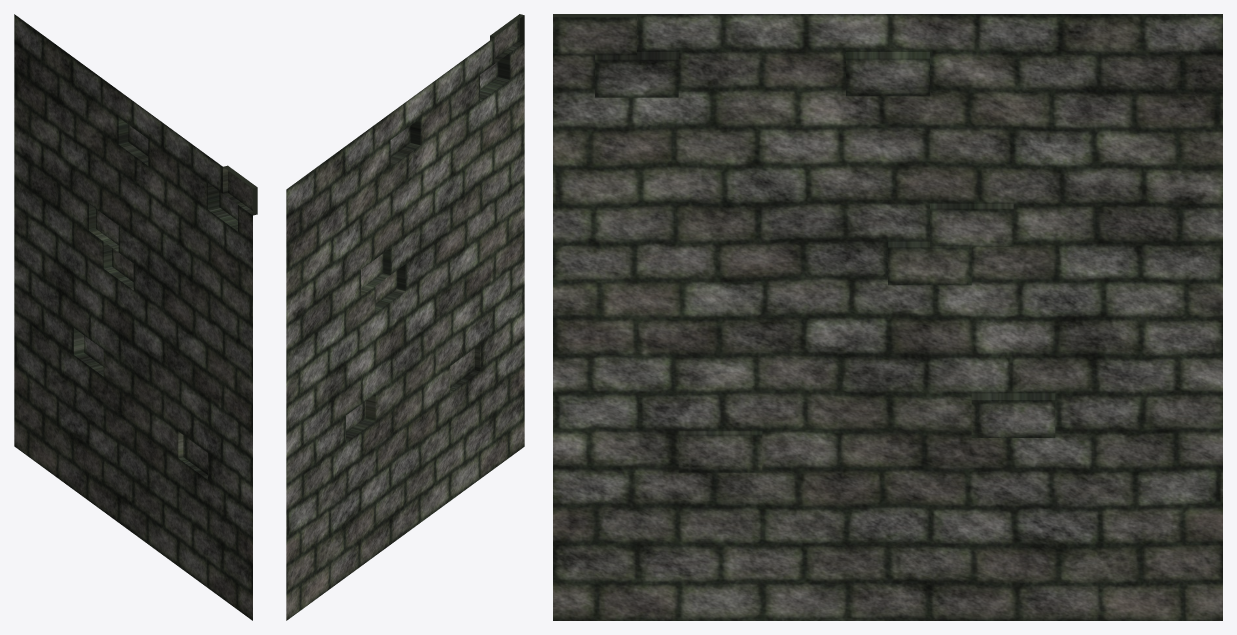
File: DungeonTiles_embedded_png.fbx
The picture shows the model from 3 angles, left to right: view 1: azimuth 30°, elevation 25°; view 2: azimuth 150°, elevation 25°; view 3: azimuth 270°, elevation 25°; orthographic projection. The views are drawn at different scales.
Visible parts, largest first — view 1: Cube; view 2: Cube; view 3: Cube.
Boxes of the visible parts, box(x1,y1,x2,y2) form: Cube: box(14, 14, 257, 620); Cube: box(286, 14, 524, 620); Cube: box(553, 14, 1222, 620).
Size of the model in its own units: 5.42 by 200 by 200.
Materials: 1 (1 with a texture image).
